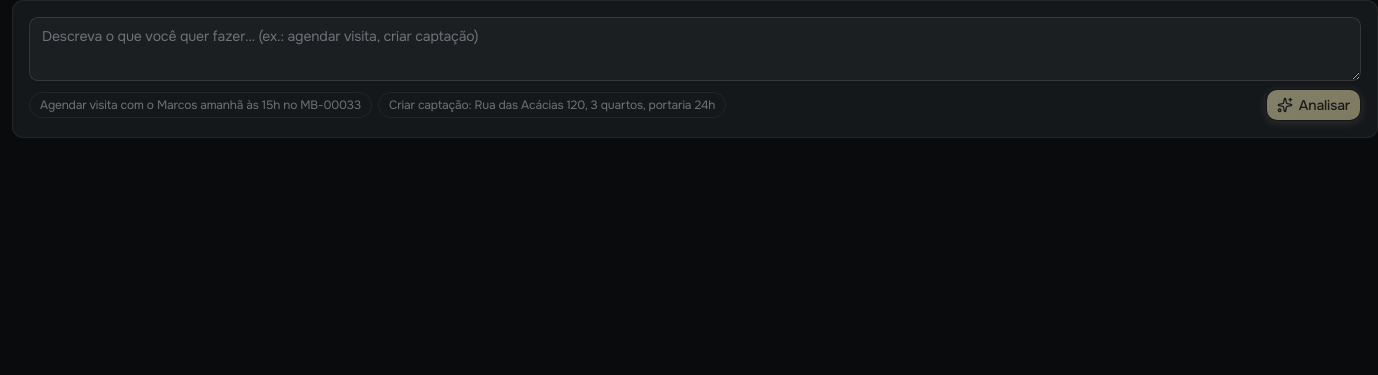
Scenario: Console do /assistente usa o cartão compartilhado › executa a ação confirmada com os args propostos
Replace the text in the text box with "agendar visita". click: x=695, y=49
box: [29,17,1361,81]
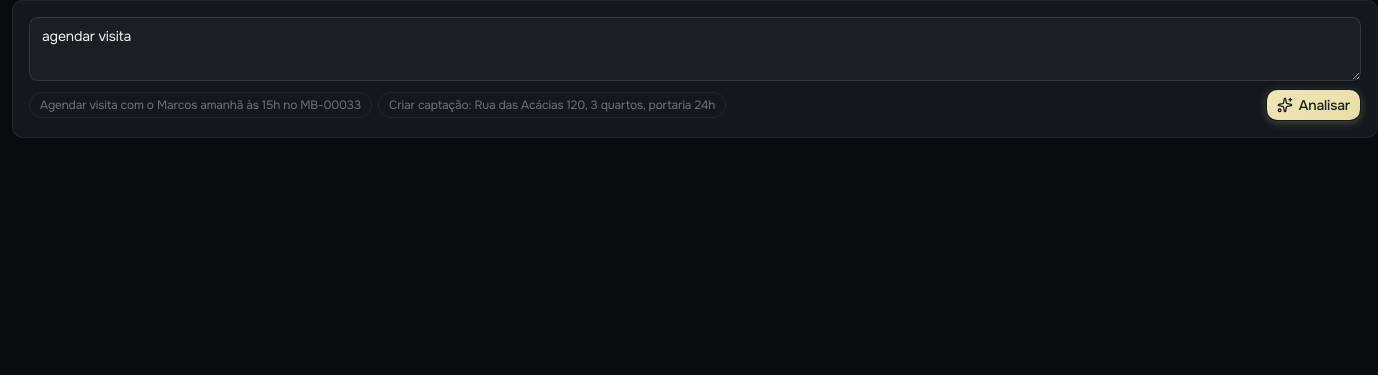
Click the button "Analisar". click: x=1313, y=105
box: [1266,89,1361,121]
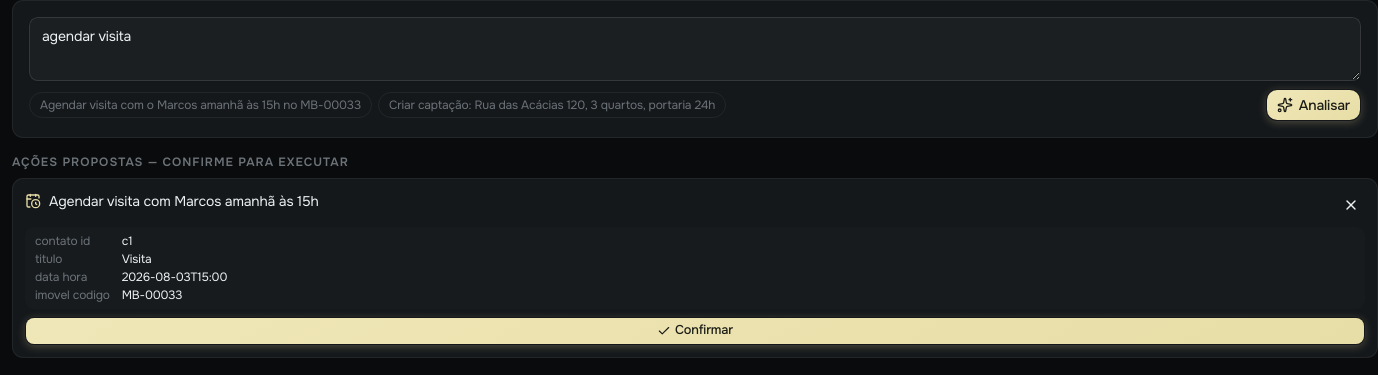
Click the button "Confirmar". click: x=695, y=331
box: [25,317,1365,345]
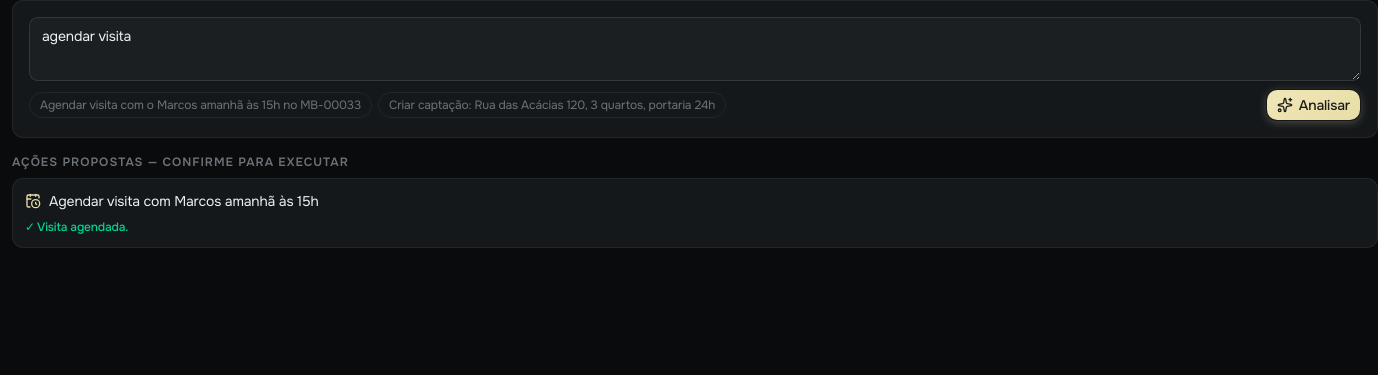
Now the text "✓ Visita agendada." is shown, box [25,219,128,235]
